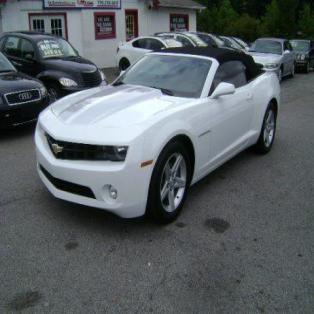Auto: (32, 47, 282, 227)
